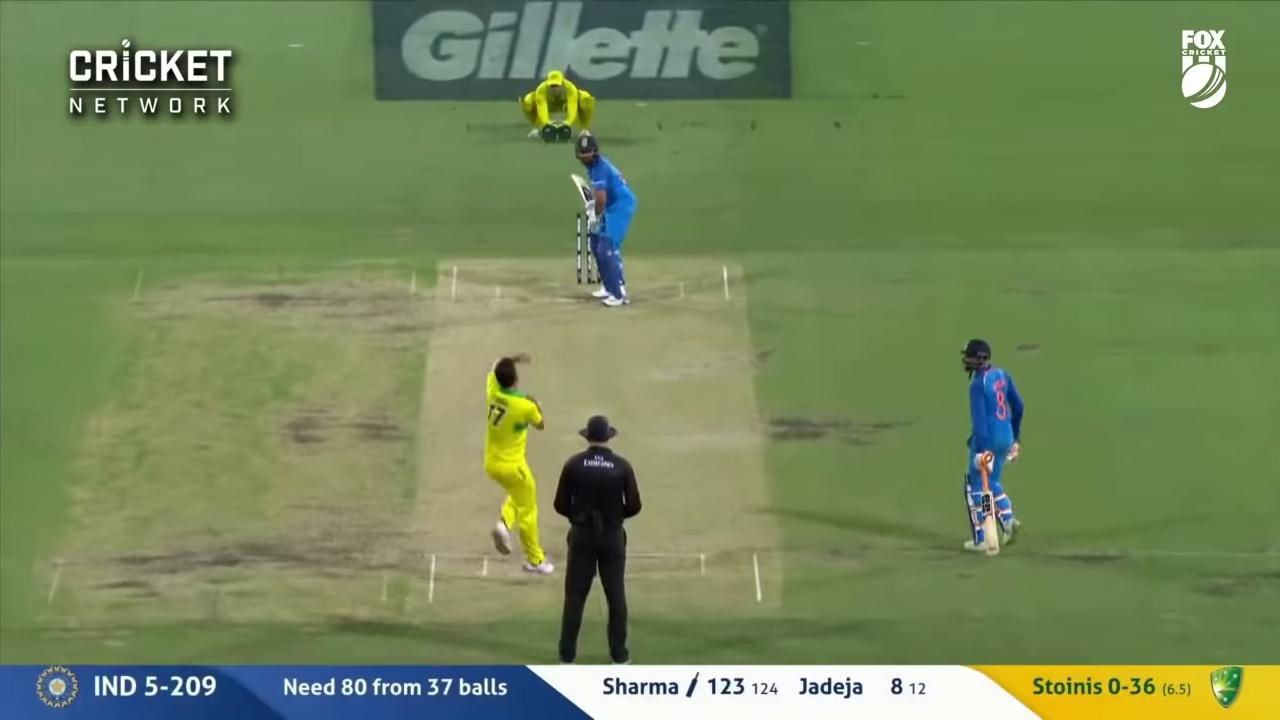batsman: (572, 136, 637, 304)
